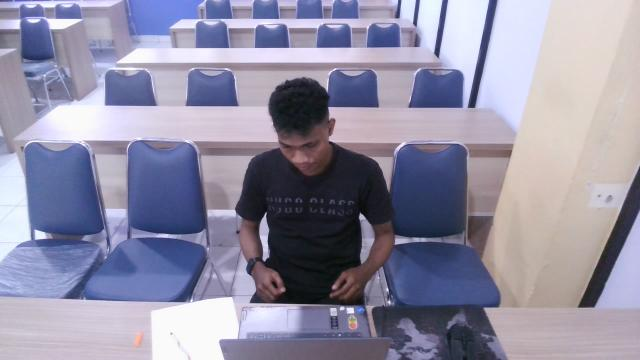Head_Down_Extreme: (226, 72, 390, 292)
